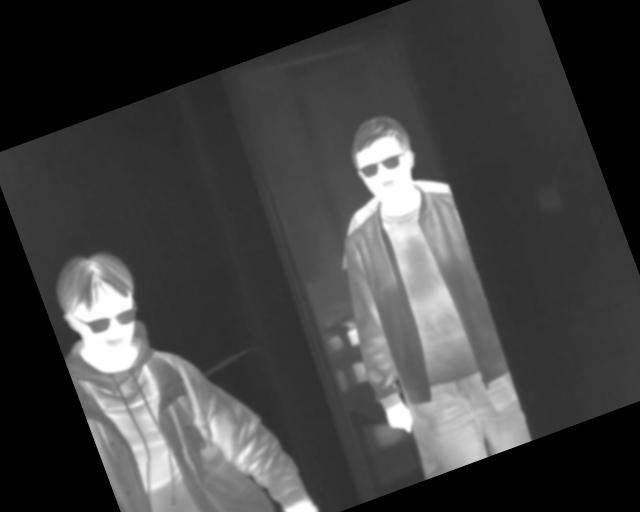face: (43, 240, 155, 369), (341, 110, 429, 213)
